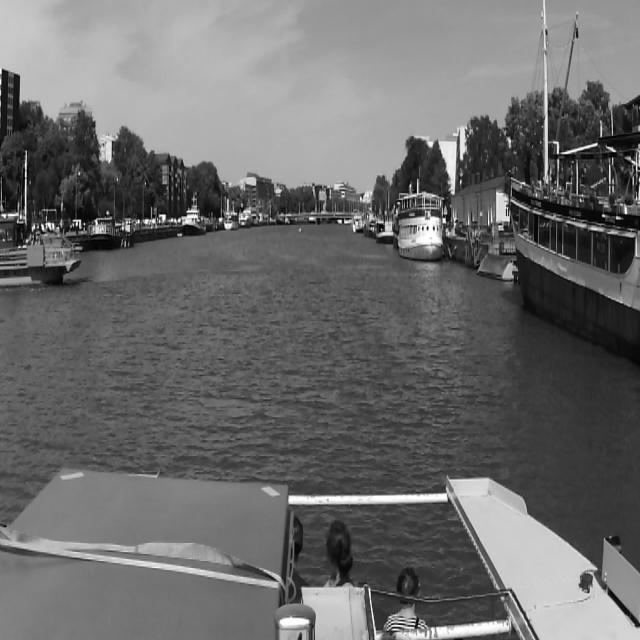ship: (509, 129, 639, 356), (0, 212, 81, 286), (398, 194, 444, 262), (89, 212, 133, 250), (182, 193, 206, 236), (377, 207, 395, 243), (238, 211, 251, 229), (223, 212, 234, 230), (352, 218, 364, 234)
